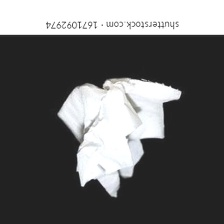tissue: (51, 73, 186, 202)
